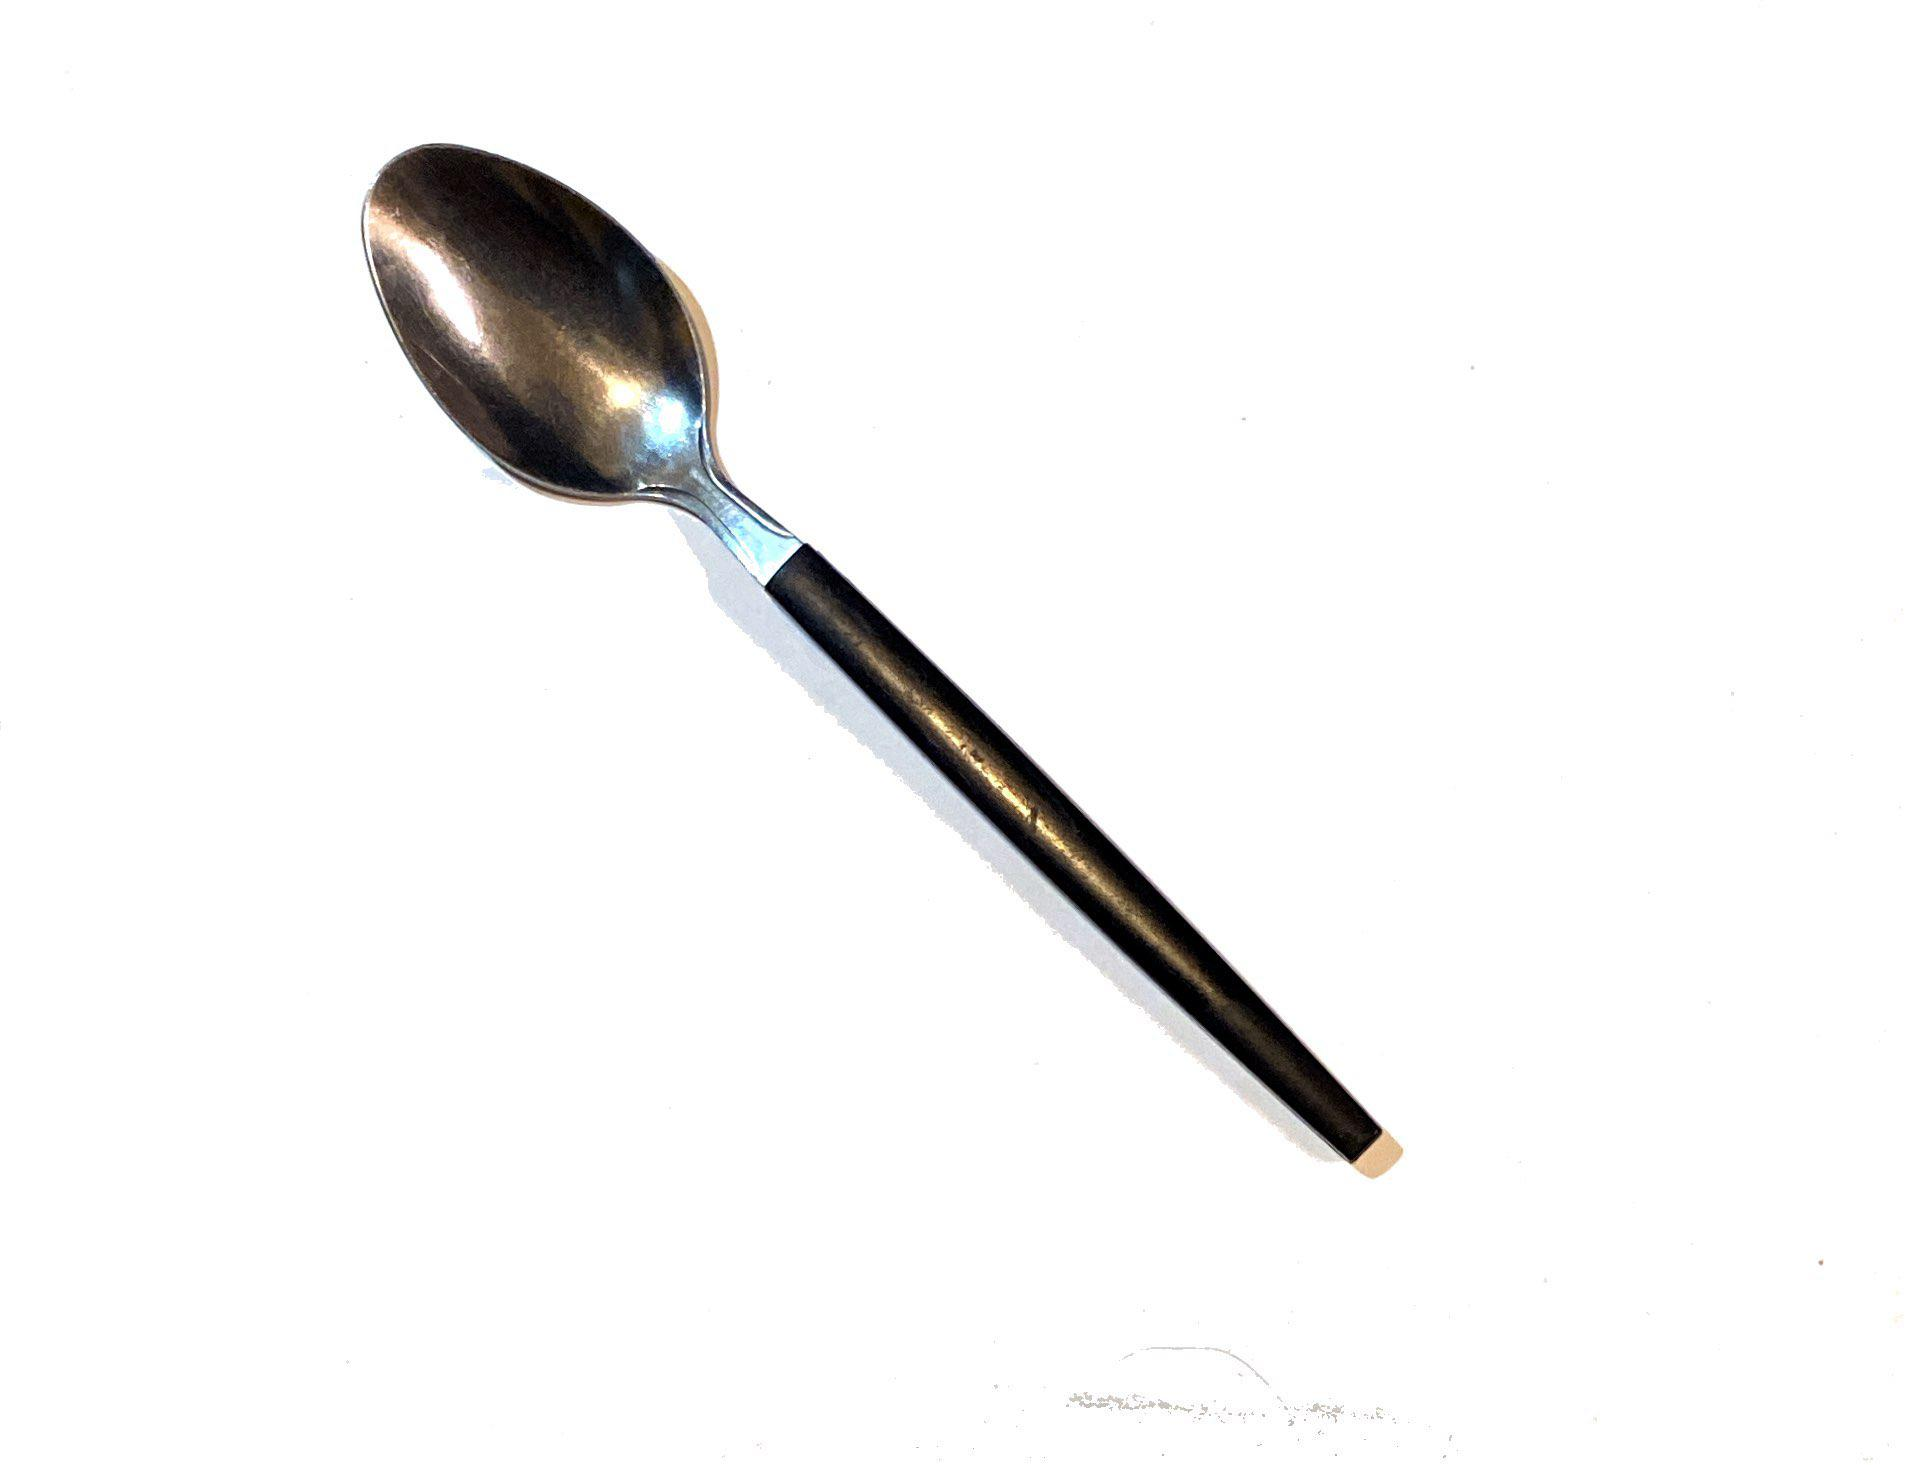Spoon: (312, 102, 1508, 1257)
